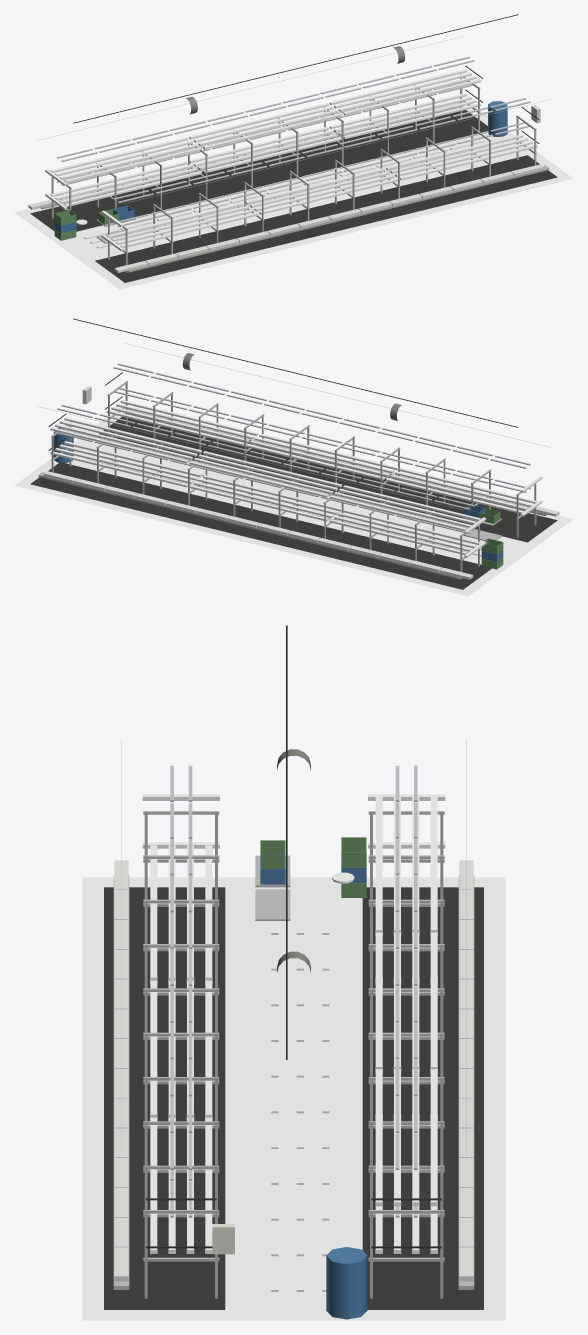
Rendered from HY_Fitout_B_LOD1.glb.
3 views of the same model, one above another, from view 1: azimuth 30°, elevation 25°; view 2: azimuth 150°, elevation 25°; view 3: azimuth 270°, elevation 25° (orthographic). The views are drawn at different scales.
Parts seen in each view (by area): view 1: HY_Fitout_B_LOD1; view 2: HY_Fitout_B_LOD1; view 3: HY_Fitout_B_LOD1.
Boxes of the visible parts, x1,y1,x2,y2 form: HY_Fitout_B_LOD1: (14,14,573,289); HY_Fitout_B_LOD1: (14,318,573,596); HY_Fitout_B_LOD1: (82,625,505,1320).
Bounding box in the file's own units: 14.9 × 4.03 × 6.
